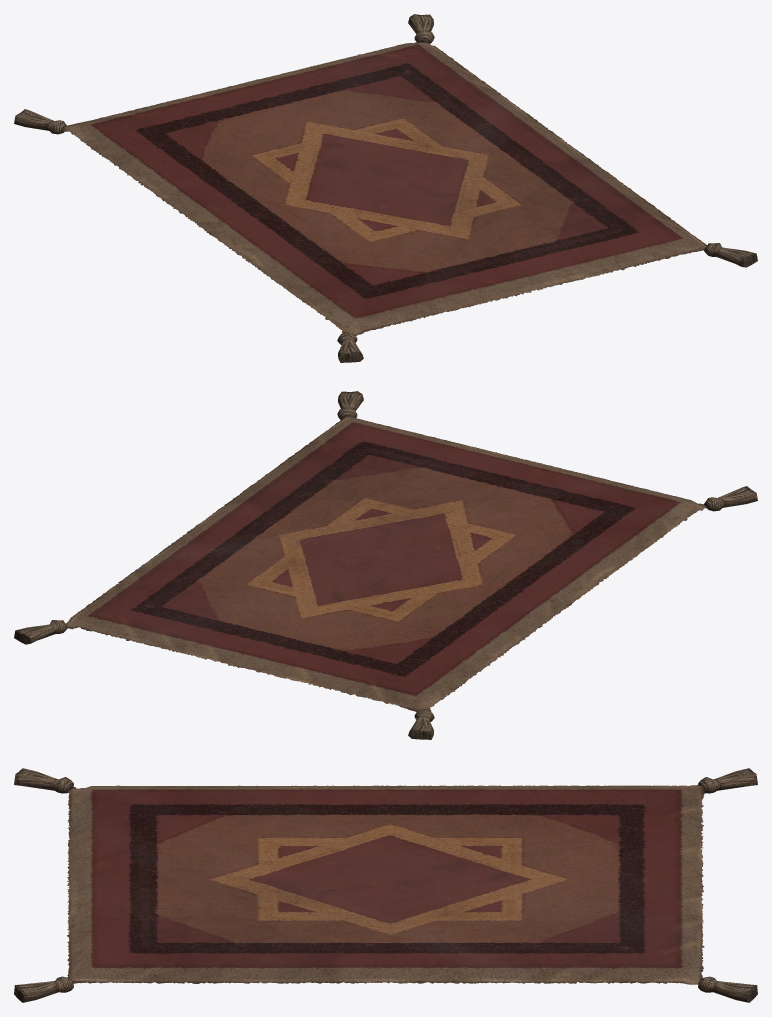
The picture shows the model from 3 angles, top to bottom: view 1: azimuth 30°, elevation 25°; view 2: azimuth 150°, elevation 25°; view 3: azimuth 270°, elevation 25°; orthographic projection. The views are drawn at different scales.
Visible parts, largest first — view 1: SM_Rug_01v2_LOD0; view 2: SM_Rug_01v2_LOD0; view 3: SM_Rug_01v2_LOD0.
Boxes of the visible parts, x1,y1,x2,y2 form: SM_Rug_01v2_LOD0: (14,14,757,362); SM_Rug_01v2_LOD0: (14,391,757,739); SM_Rug_01v2_LOD0: (14,768,757,1002).
Size of the model in its own units: 1.6 by 0.038 by 2.21.
Materials: 1 (1 with a texture image).
